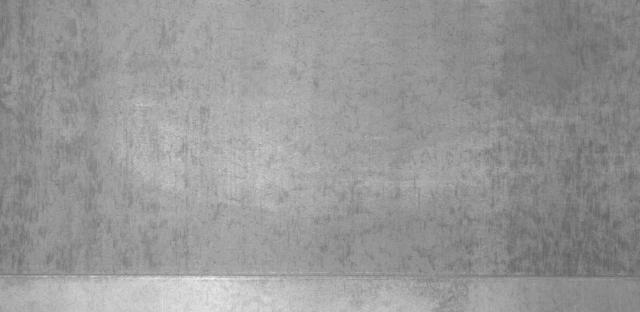welding_line: (3, 267, 640, 291)
